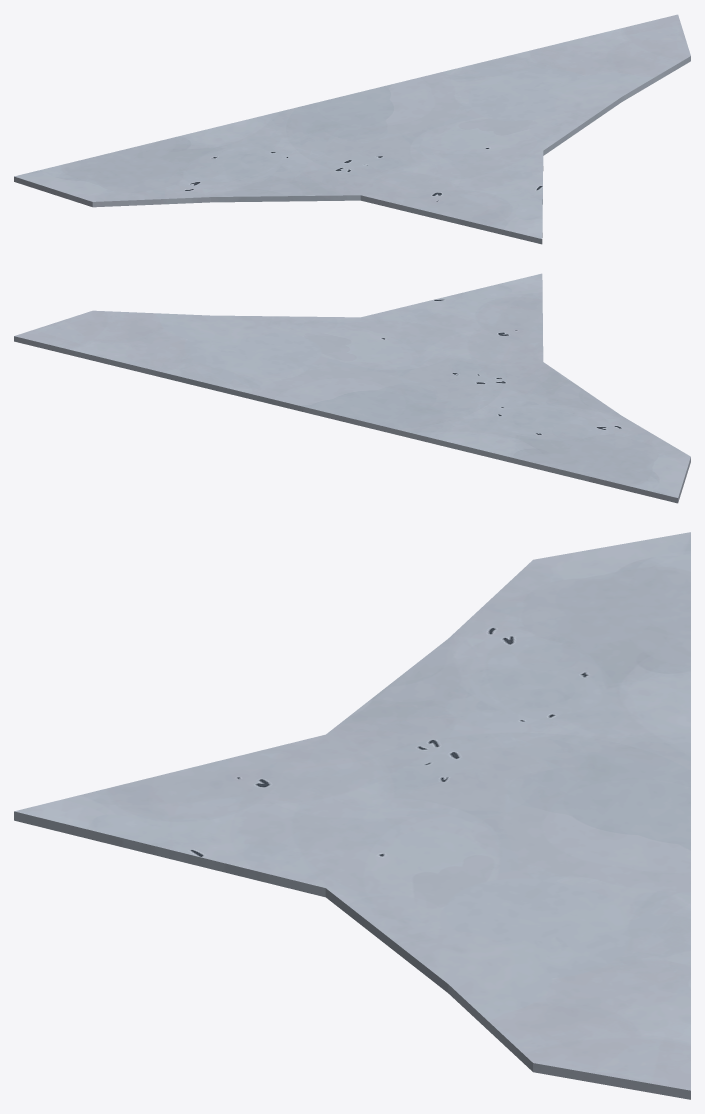
File: plaza.fbx
The picture shows the model from 3 angles, top to bottom: view 1: azimuth 30°, elevation 25°; view 2: azimuth 150°, elevation 25°; view 3: azimuth 270°, elevation 25°; orthographic projection. The views are drawn at different scales.
Visible parts, largest first — view 1: Box019; view 2: Box019; view 3: Box019.
Boxes of the visible parts, x1,y1,x2,y2 form: Box019: (14, 14, 690, 244); Box019: (14, 273, 690, 503); Box019: (14, 532, 690, 1099).
Size of the model in its own units: 3749 by 28.88 by 1920.
